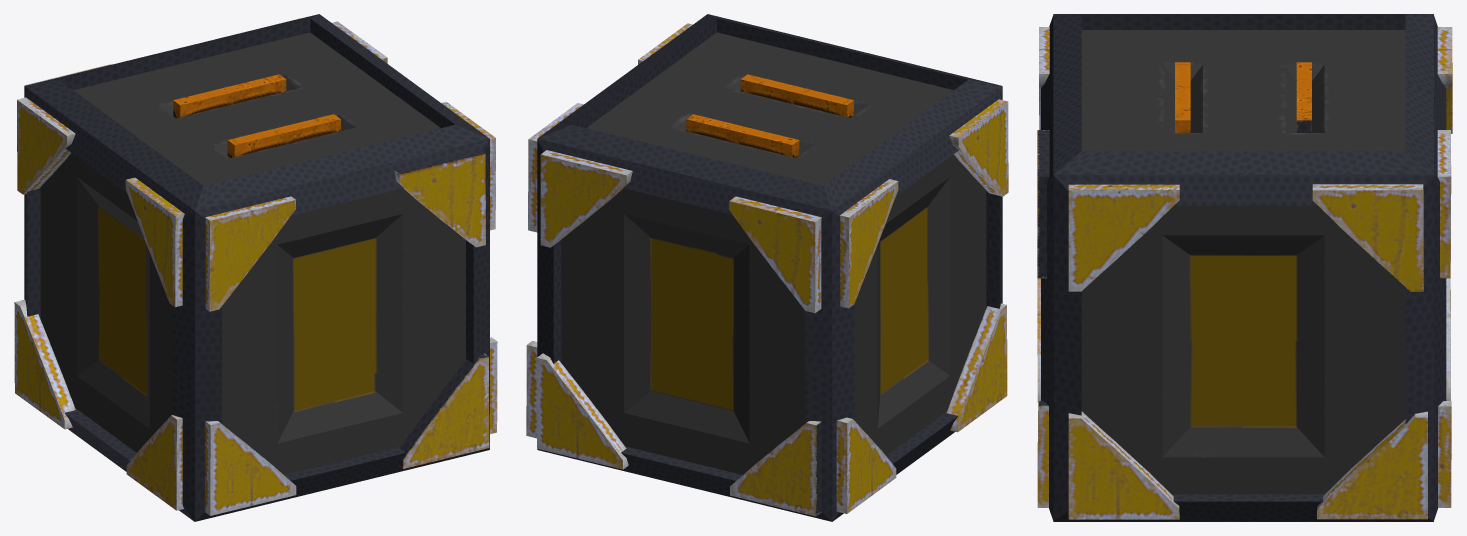
The model's file is SCrate.fbx.
The picture shows the model from 3 angles, left to right: view 1: azimuth 30°, elevation 25°; view 2: azimuth 150°, elevation 25°; view 3: azimuth 270°, elevation 25°; orthographic projection. The views are drawn at different scales.
Visible parts, largest first — view 1: Box094; view 2: Box094; view 3: Box094.
Boxes of the visible parts, x1,y1,x2,y2 form: Box094: [14, 14, 497, 521]; Box094: [526, 14, 1008, 521]; Box094: [1037, 14, 1452, 521].
Size of the model in its own units: 210 by 207 by 211.
Materials: 1 (1 with a texture image).
